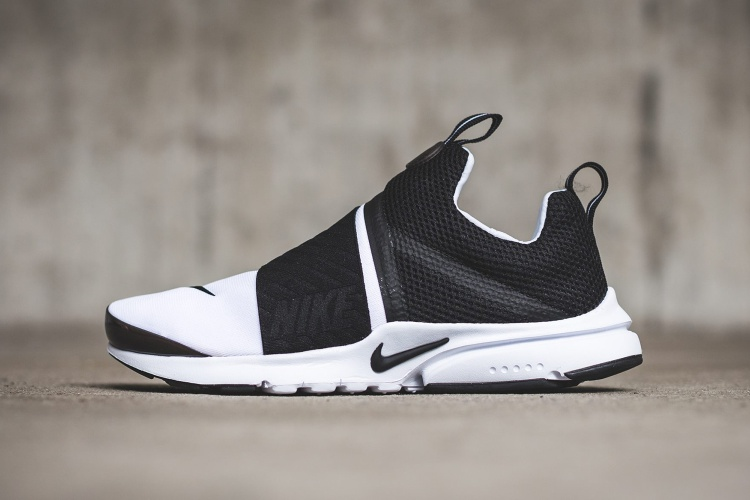nike: (367, 335, 455, 375)
